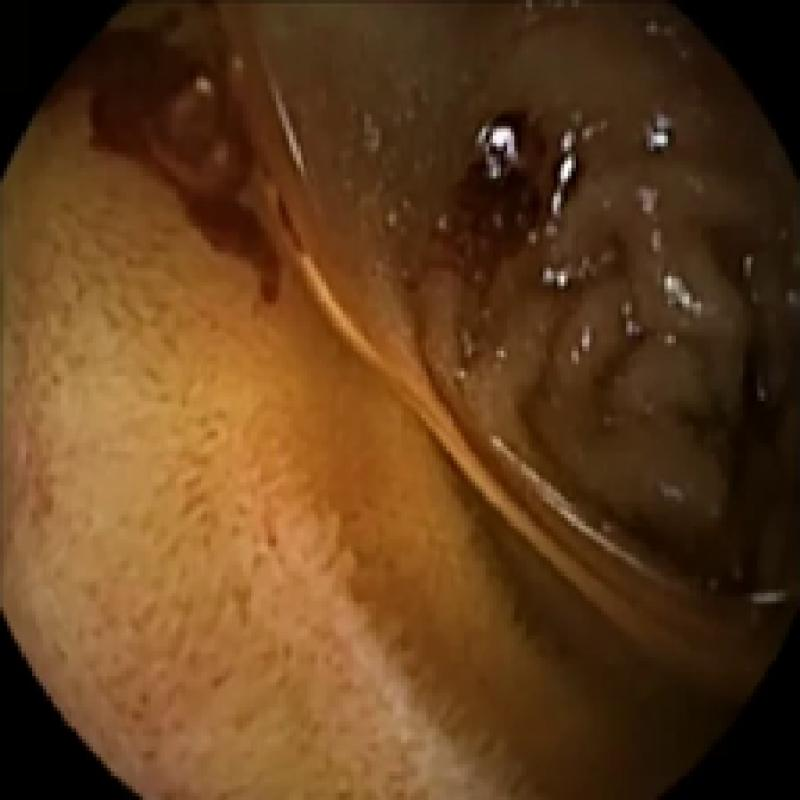bleeding: (43, 0, 289, 300), (657, 210, 797, 591), (429, 98, 538, 292)
